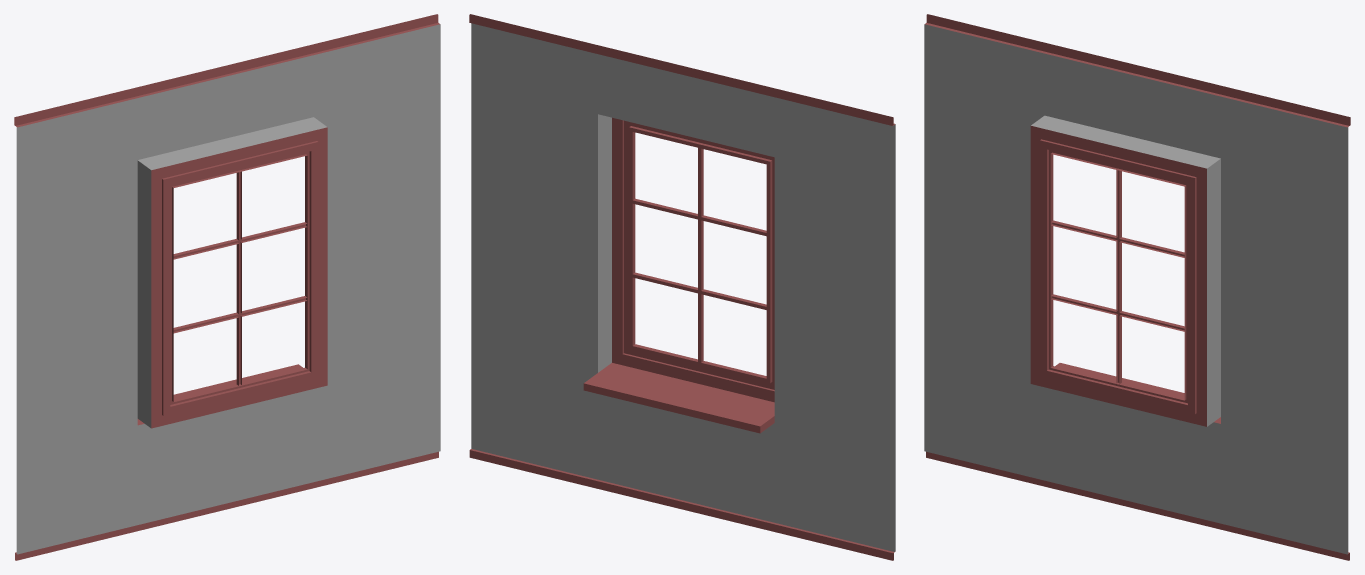
File: Prop_WallIntWindow3x3_01.fbx
3 renders of one model, left to right at view 1: azimuth 30°, elevation 25°; view 2: azimuth 150°, elevation 25°; view 3: azimuth 330°, elevation 25°, orthographic.
Visible parts, largest first — view 1: polySurface22; view 2: polySurface22; view 3: polySurface22.
Part boxes in pixels (x1,y1,x2,y2): polySurface22: [14, 14, 440, 560]; polySurface22: [469, 14, 895, 560]; polySurface22: [924, 14, 1350, 560].
Size of the model in its own units: 3 by 3 by 0.3742.
